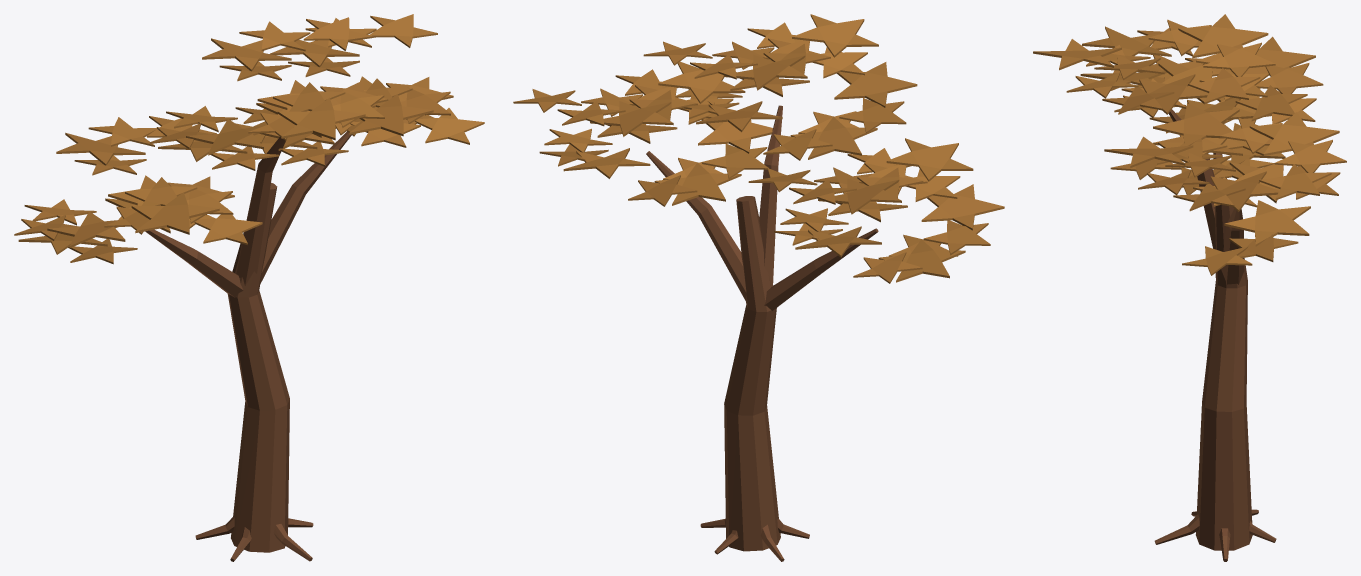
File: Plant_Common_AutumnMaple_001.glb
3 renders of one model, left to right at view 1: azimuth 30°, elevation 25°; view 2: azimuth 150°, elevation 25°; view 3: azimuth 270°, elevation 25°, orthographic. The views are drawn at different scales.
Parts seen in each view (by area): view 1: Plant_Common_AutumnMaple_001; view 2: Plant_Common_AutumnMaple_001; view 3: Plant_Common_AutumnMaple_001.
Part boxes in pixels (x1,y1,x2,y2): Plant_Common_AutumnMaple_001: (14, 14, 484, 561); Plant_Common_AutumnMaple_001: (513, 14, 1004, 561); Plant_Common_AutumnMaple_001: (1033, 14, 1346, 561).
Size of the model in its own units: 5.63 by 5.78 by 3.3.
